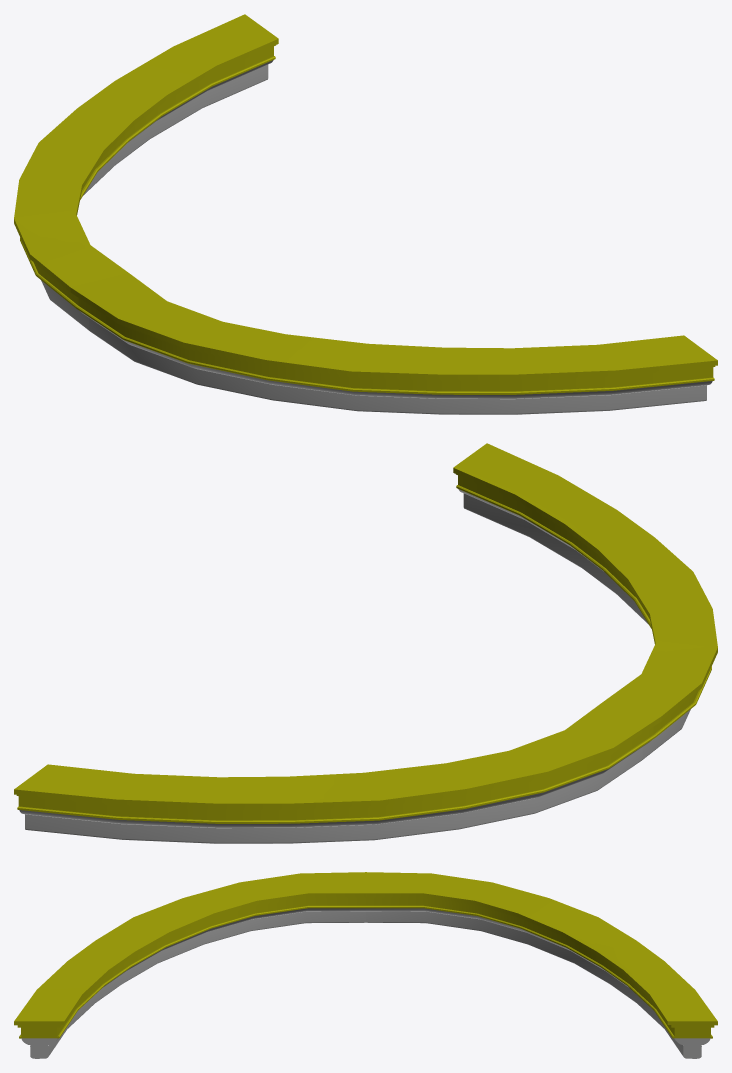
Rendered from rail_standard_curved_180_upper.fbx.
The picture shows the model from 3 angles, top to bottom: view 1: azimuth 30°, elevation 25°; view 2: azimuth 150°, elevation 25°; view 3: azimuth 270°, elevation 25°; orthographic projection. The views are drawn at different scales.
Visible parts, largest first — view 1: polySurface652, polySurface655, polySurface649, polySurface653, polySurface658, polySurface651, polySurface650, polySurface654, polySurface656; view 2: polySurface655, polySurface652, polySurface658, polySurface654, polySurface649, polySurface656, polySurface657, polySurface653, polySurface651; view 3: polySurface652, polySurface655, polySurface649, polySurface658, polySurface653, polySurface654, polySurface651, polySurface656, polySurface650, polySurface657.
Part boxes in pixels (bbox=[...]): polySurface652: bbox=[70, 273, 717, 380]; polySurface655: bbox=[14, 14, 278, 292]; polySurface649: bbox=[89, 318, 706, 414]; polySurface653: bbox=[78, 298, 713, 391]; polySurface658: bbox=[41, 64, 268, 330]; polySurface651: bbox=[76, 306, 714, 394]; polySurface650: bbox=[81, 312, 712, 398]; polySurface654: bbox=[33, 46, 273, 305]; polySurface656: bbox=[20, 56, 275, 307]; polySurface655: bbox=[14, 702, 661, 809]; polySurface652: bbox=[453, 443, 717, 721]; polySurface658: bbox=[25, 747, 642, 843]; polySurface654: bbox=[18, 727, 653, 820]; polySurface649: bbox=[463, 493, 690, 759]; polySurface656: bbox=[17, 735, 655, 823]; polySurface657: bbox=[19, 741, 650, 827]; polySurface653: bbox=[458, 475, 698, 734]; polySurface651: bbox=[456, 485, 711, 736]; polySurface652: bbox=[14, 872, 365, 1027]; polySurface655: bbox=[366, 872, 717, 1027]; polySurface649: bbox=[30, 911, 365, 1058]; polySurface658: bbox=[366, 911, 701, 1058]; polySurface653: bbox=[21, 898, 365, 1036]; polySurface654: bbox=[366, 898, 710, 1036]; polySurface651: bbox=[19, 905, 365, 1038]; polySurface656: bbox=[366, 905, 712, 1038]; polySurface650: bbox=[21, 908, 365, 1045]; polySurface657: bbox=[366, 908, 710, 1045].
Size of the model in its own units: 5.4 by 0.6351 by 10.78.
